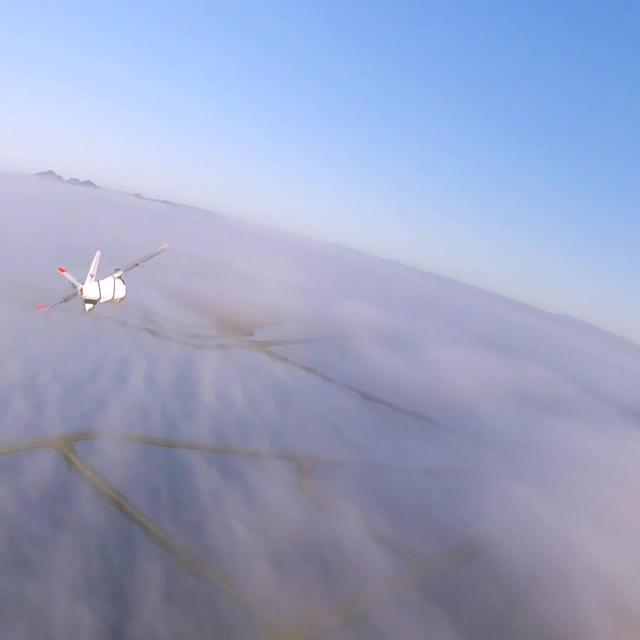iha: (0, 276, 103, 282)
